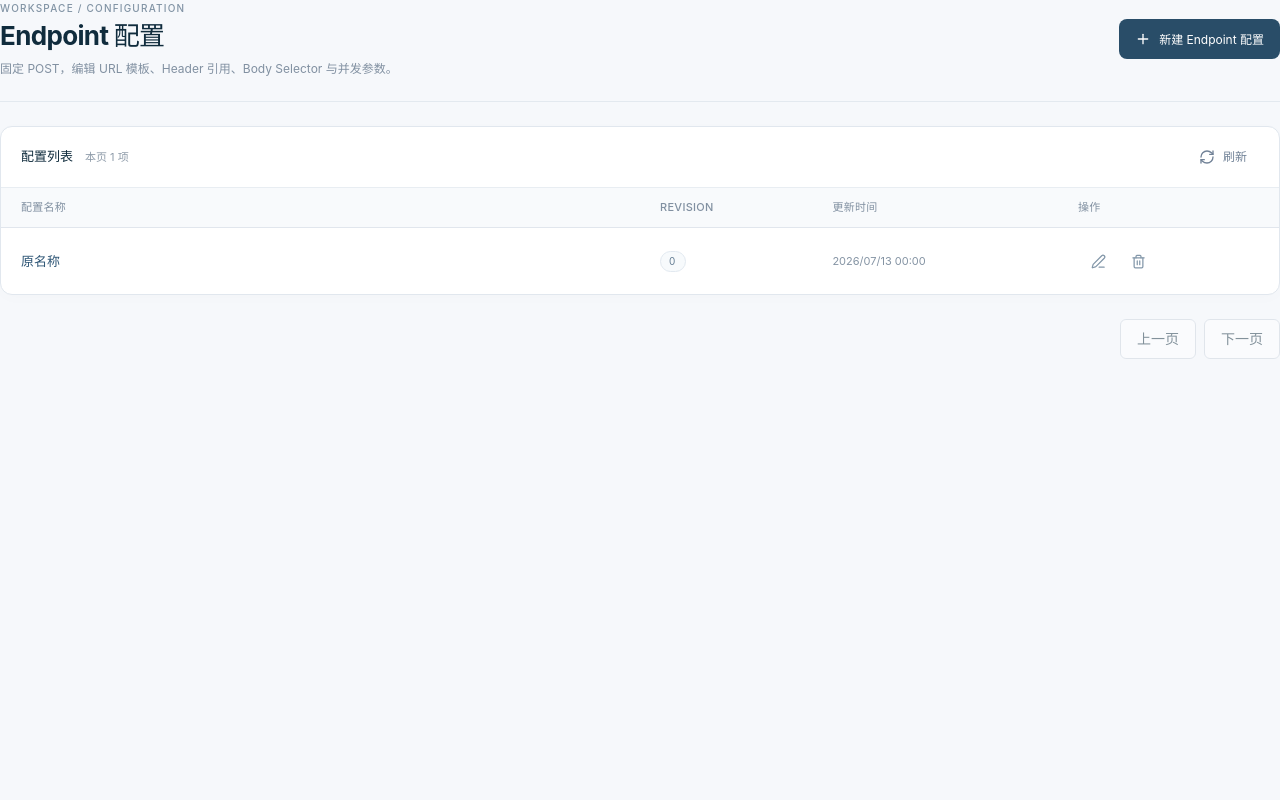
it: 配置资源页面 › 配置采用 Snapshot 后关闭重开仍读取同步后的 Query 事实
This screenshot has width=1280, height=800.
Click the button named "编辑 原名称" at {"x": 1098, "y": 261}, box [1078,245,1119,277]
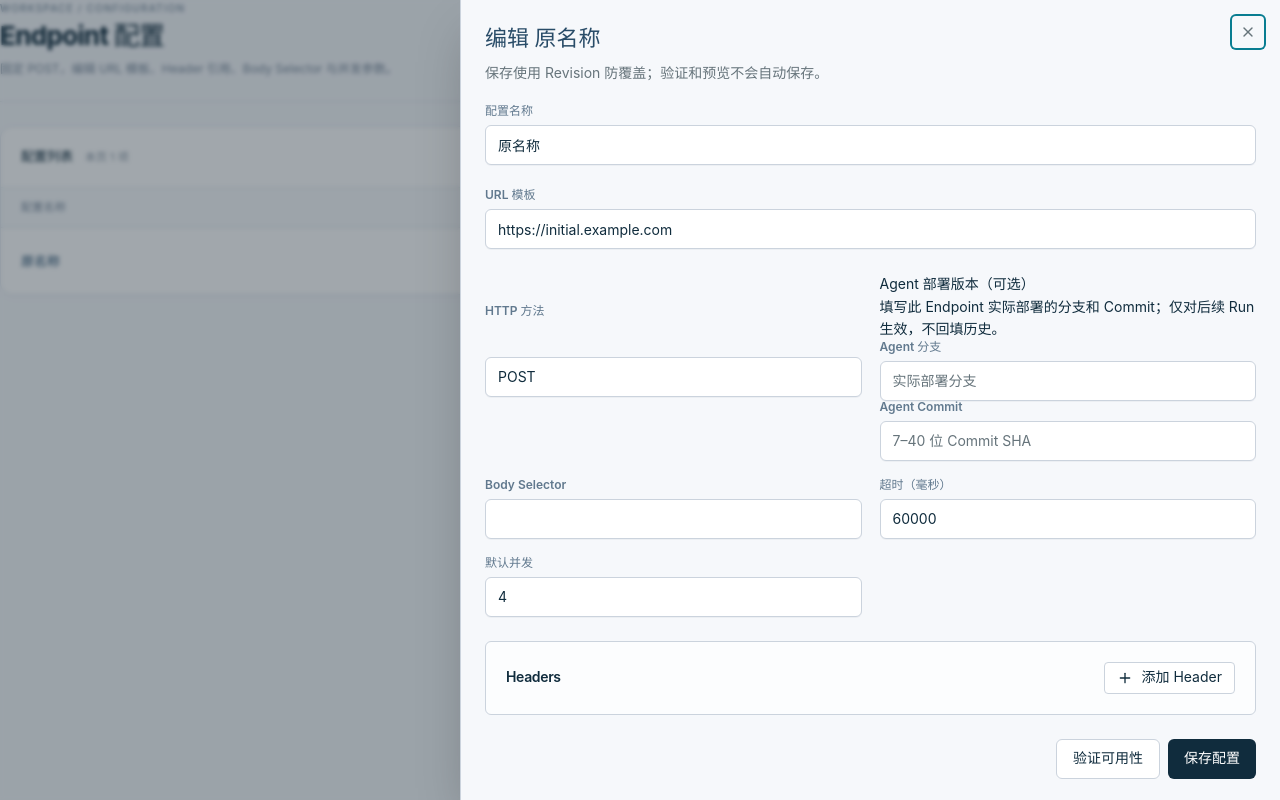
Replace the text in the field labelled "配置名称" with "本地名称" at {"x": 870, "y": 145}, box [485,125,1256,165]
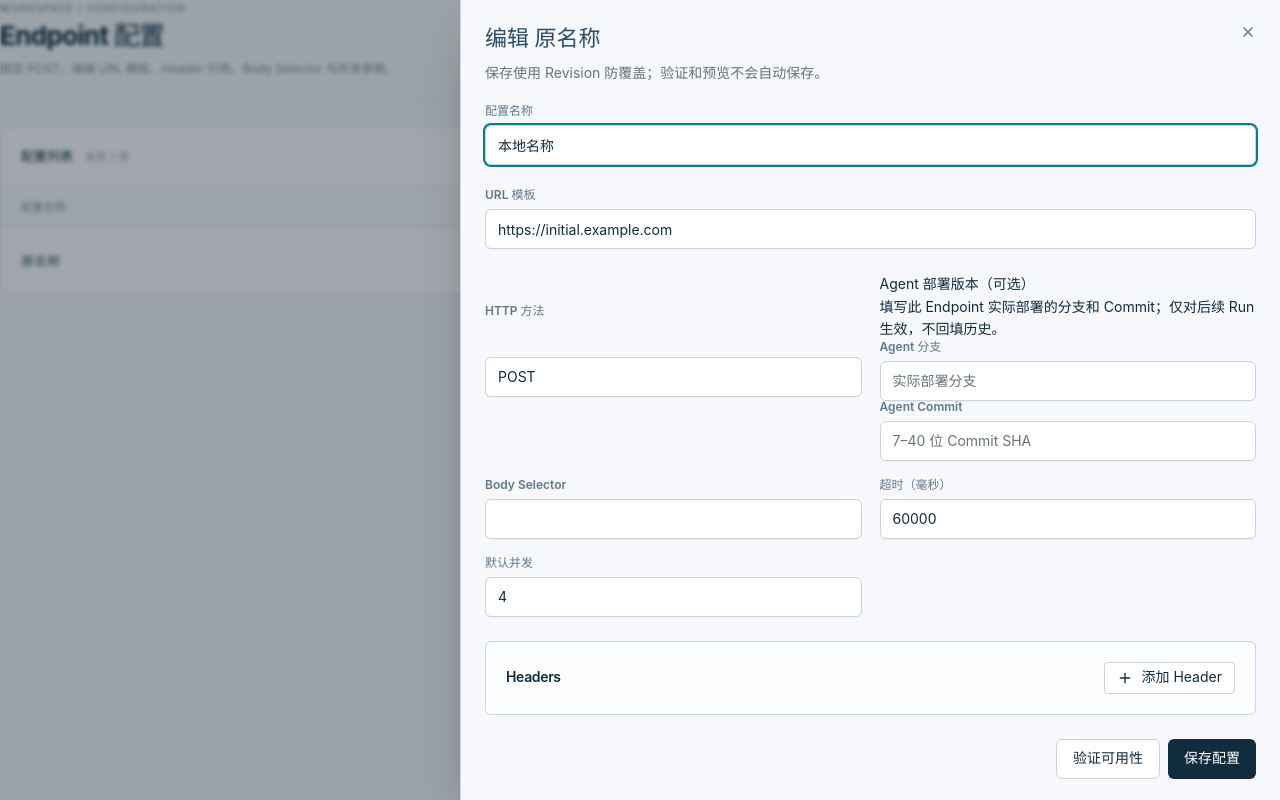
Click the button "保存配置" at {"x": 1212, "y": 758}, box [1168,738,1256,778]
(page scrolled)
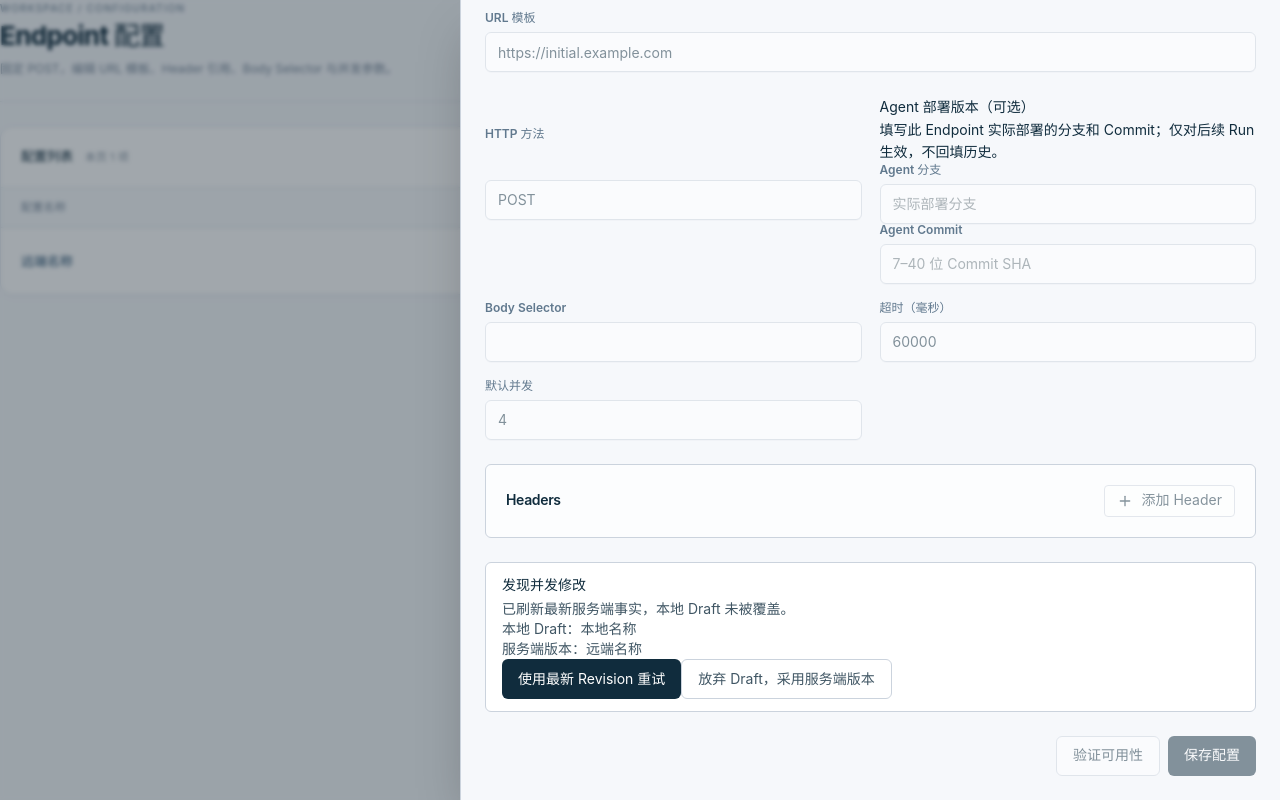
Click the button "放弃 Draft，采用服务端版本" at {"x": 787, "y": 678}, box [681,658,892,698]
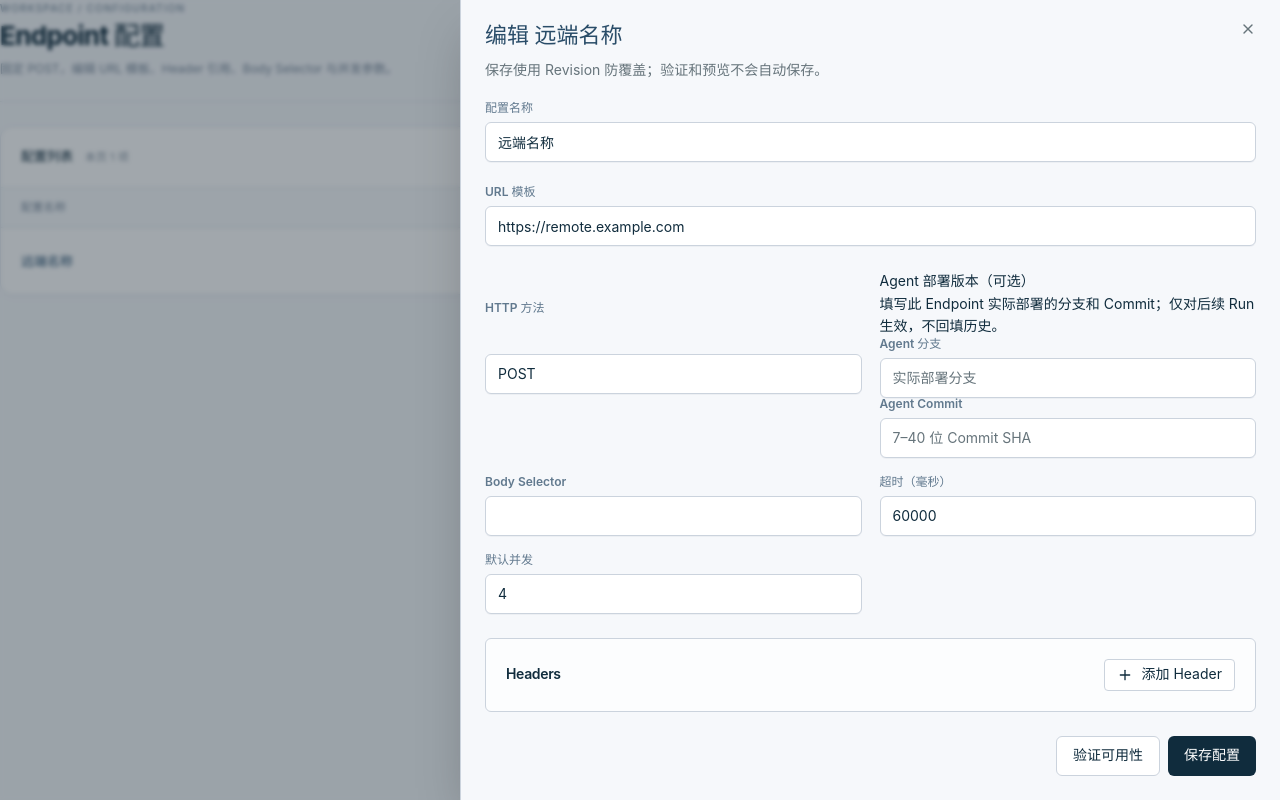
Press Escape
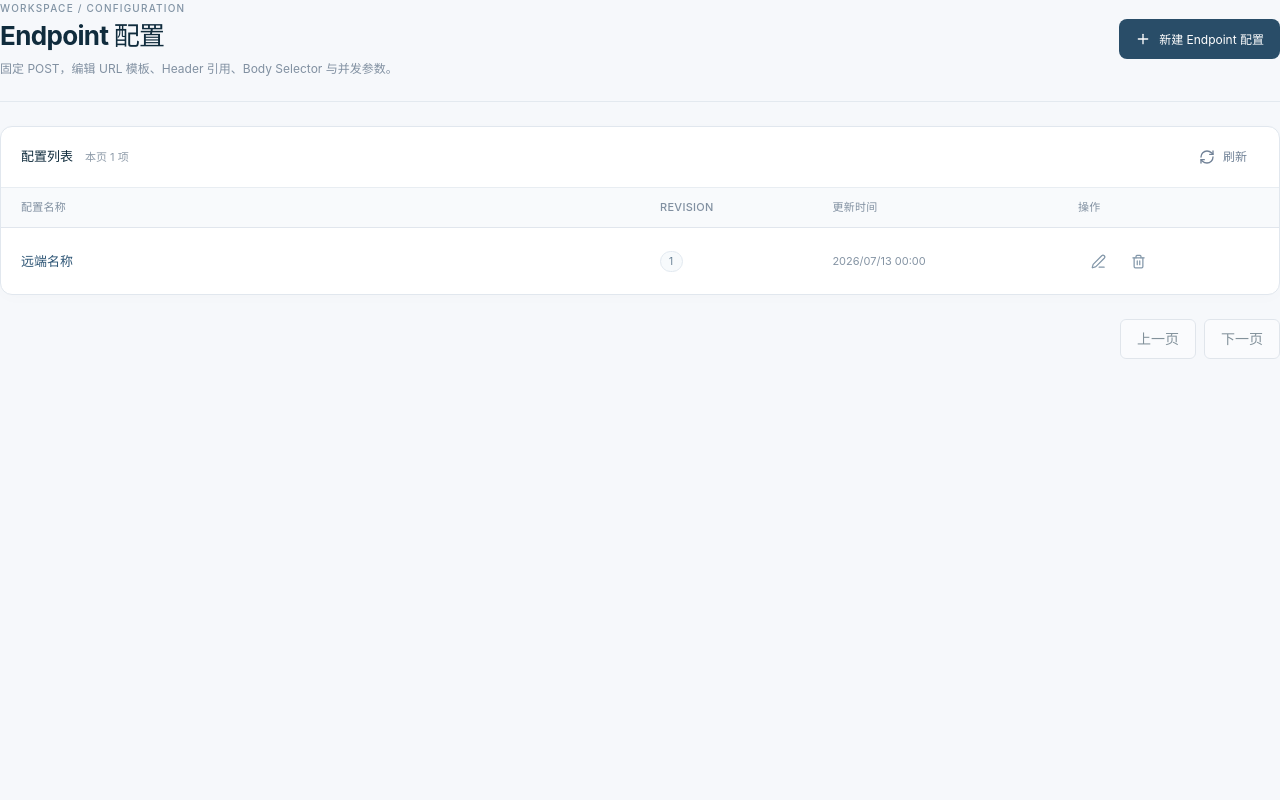
Click the button named "编辑 远端名称" at {"x": 1098, "y": 261}, box [1078,245,1119,277]
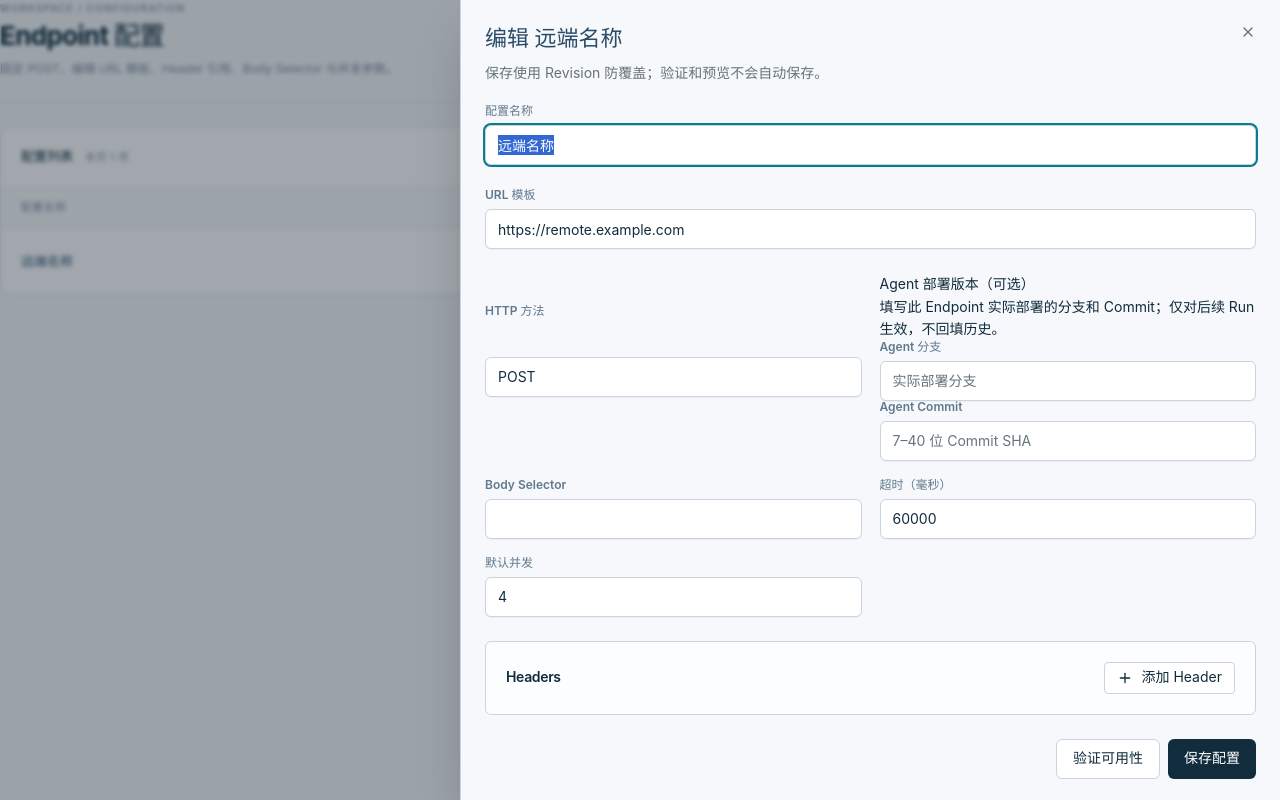
expect the field labelled "配置名称" holds "远端名称": met, box [485,125,1256,165]
expect the field labelled "URL 模板" holds "https://remote.example.com": met, box [485,209,1256,249]
